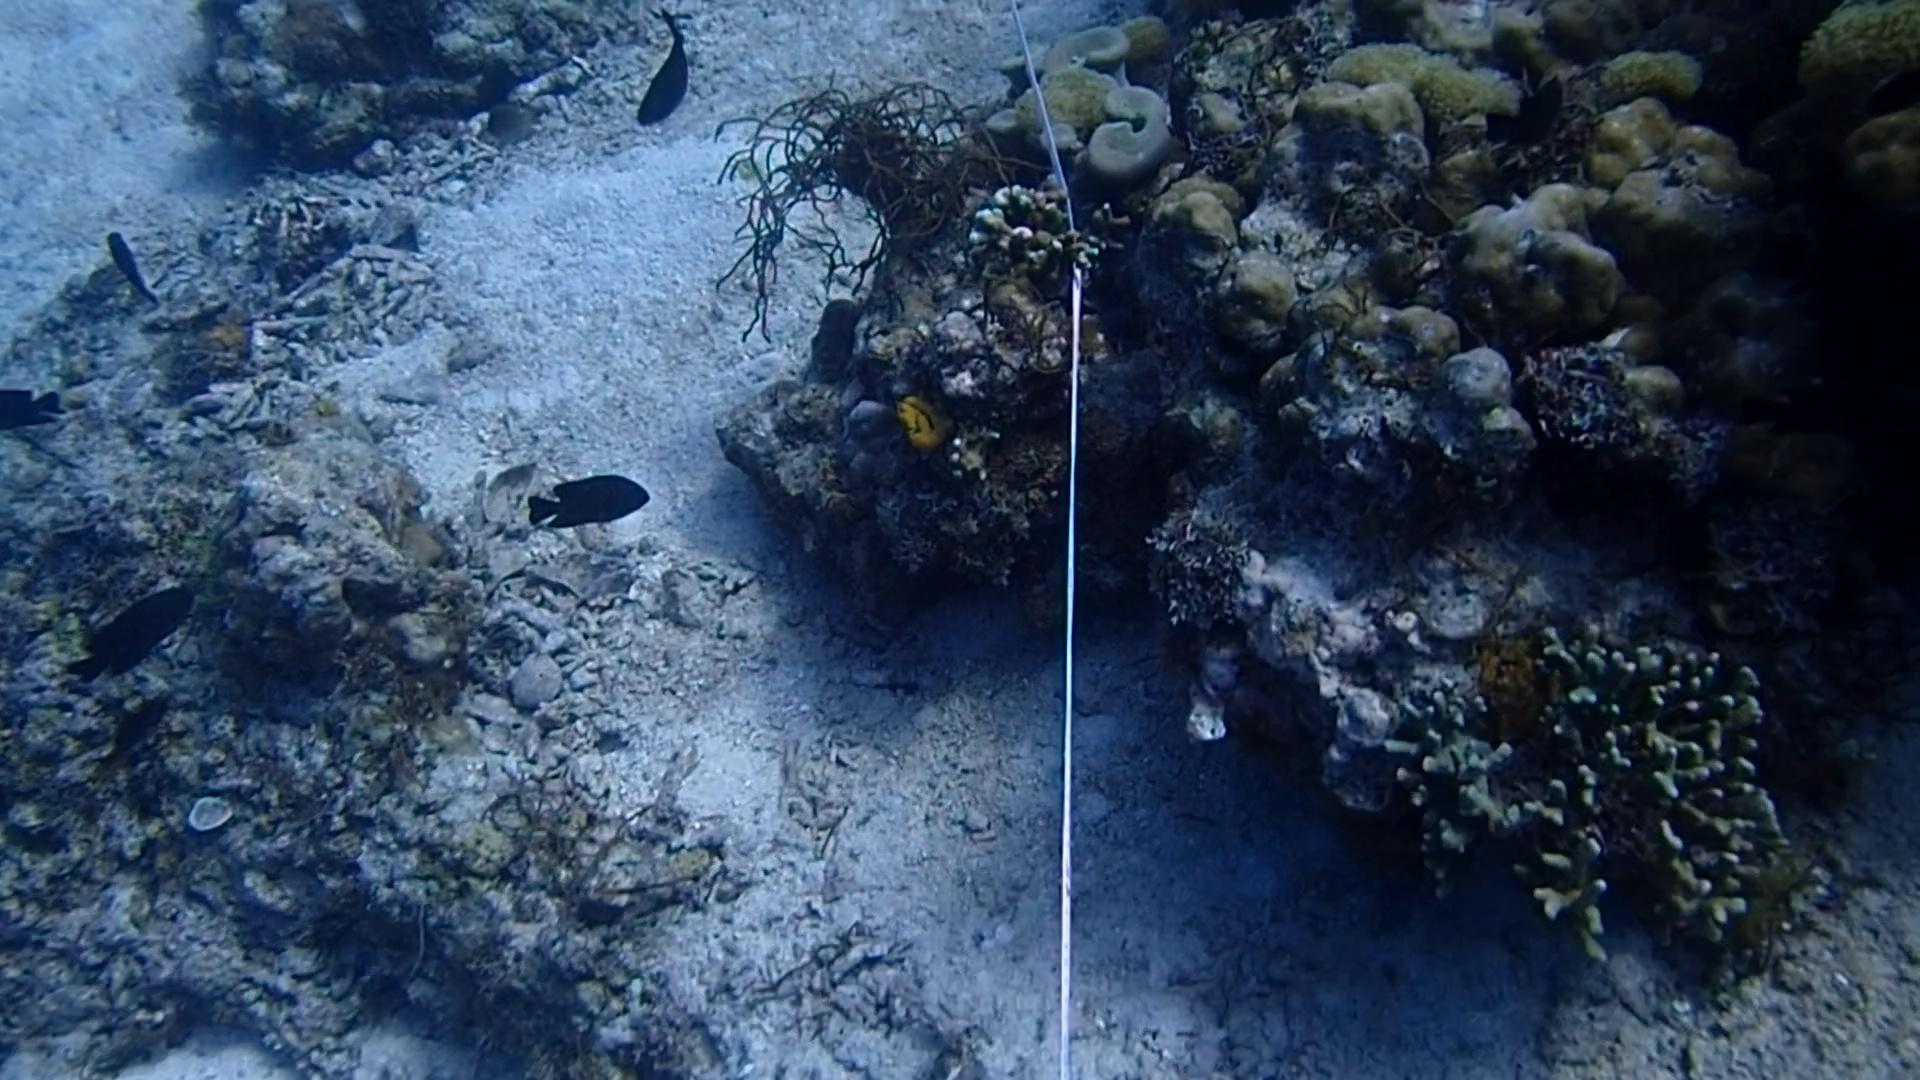Dark Fish: (63, 572, 211, 691), (505, 455, 667, 553), (613, 11, 721, 132), (88, 675, 193, 791), (98, 227, 165, 310), (0, 369, 70, 443)
Light Fish: (472, 100, 542, 144)
